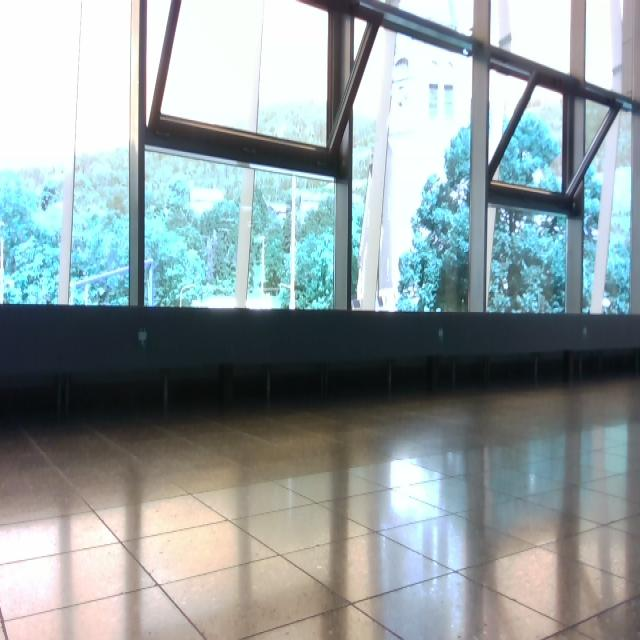door: (2, 1, 639, 638)
light bulb: (189, 187, 224, 215), (138, 327, 148, 347)
tiled floor: (2, 377, 639, 638)
window: (1, 1, 639, 317)
